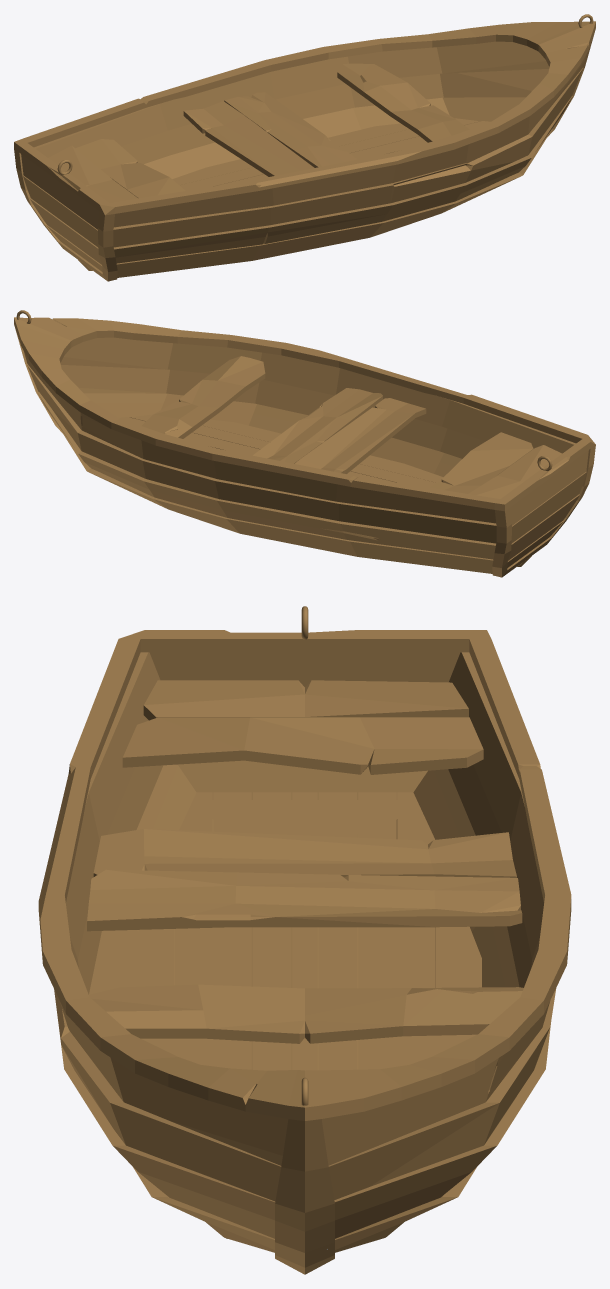
The model's file is SM_Boat_HP.fbx.
The picture shows the model from 3 angles, top to bottom: view 1: azimuth 30°, elevation 25°; view 2: azimuth 150°, elevation 25°; view 3: azimuth 270°, elevation 25°; orthographic projection. The views are drawn at different scales.
Visible parts, largest first — view 1: Boat_HP; view 2: Boat_HP; view 3: Boat_HP.
Part boxes in pixels (x1,y1,x2,y2): Boat_HP: (14,14,595,281); Boat_HP: (14,310,595,577); Boat_HP: (38,606,571,1274).
Size of the model in its own units: 6.57 by 1.58 by 2.82.
